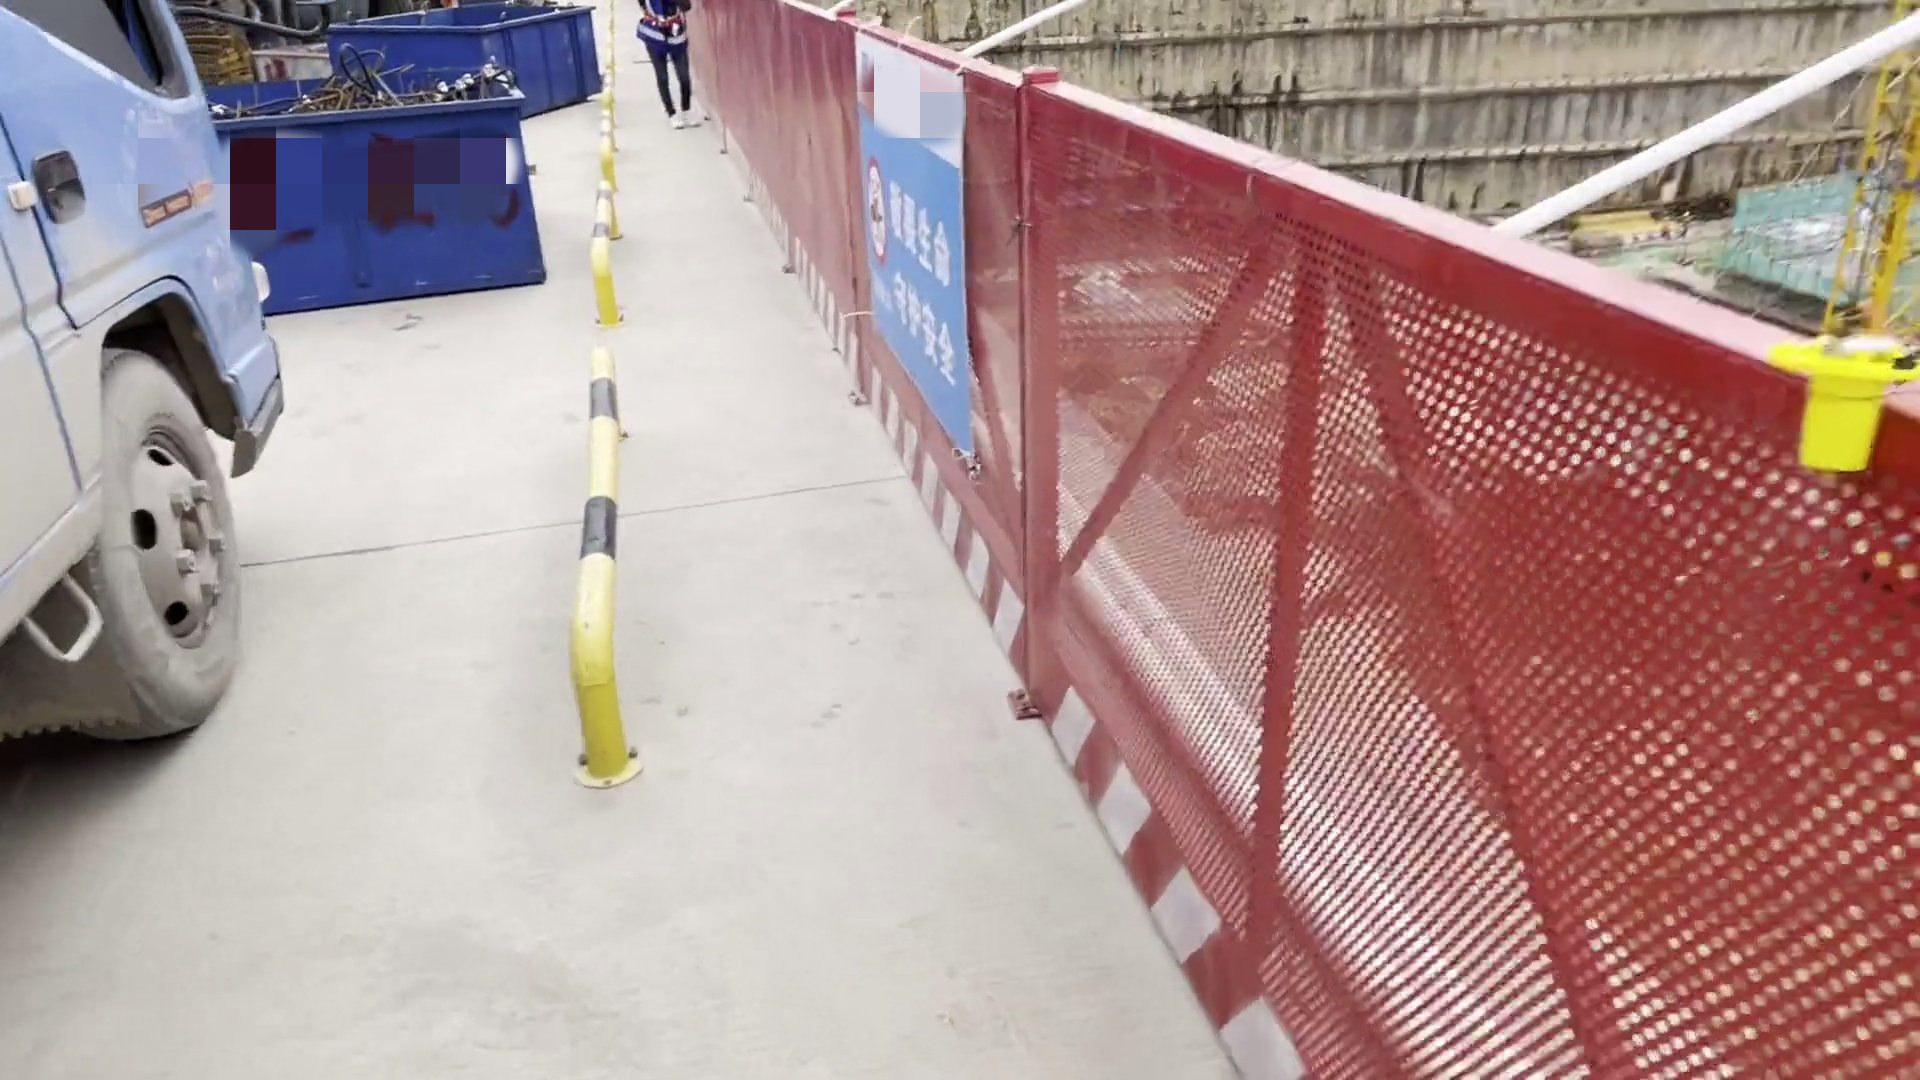fence: (805, 28, 1919, 1080)
hopper: (222, 93, 545, 300), (326, 1, 595, 117)
person: (639, 1, 712, 135)
slogan: (855, 47, 971, 435)
vest: (638, 1, 701, 49)
